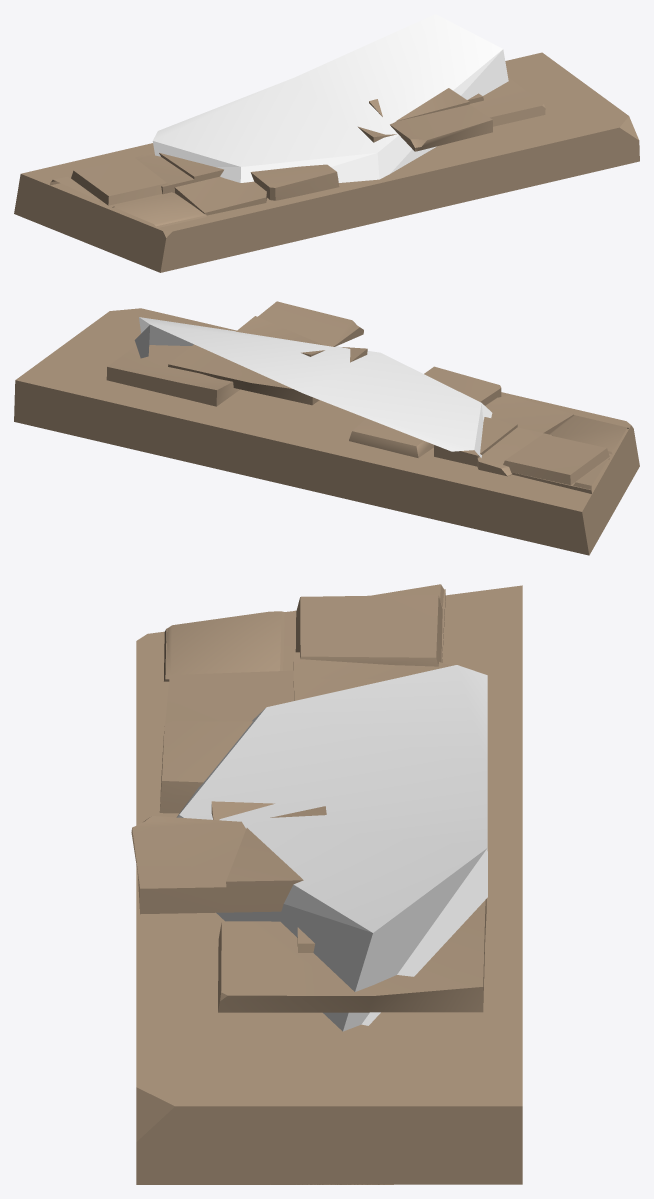
Rendered from stone+floor.FBX.
3 views of the same model, one above another, from view 1: azimuth 30°, elevation 25°; view 2: azimuth 150°, elevation 25°; view 3: azimuth 270°, elevation 25° (orthographic). The views are drawn at different scales.
Visible parts, largest first — view 1: Stone floor001; view 2: Stone floor001; view 3: Stone floor001.
Part boxes in pixels (box(x1,y1,x2,y2)): Stone floor001: box(14, 14, 639, 272); Stone floor001: box(14, 301, 639, 555); Stone floor001: box(131, 584, 522, 1184).
Size of the model in its own units: 23.76 by 4.79 by 7.6.
